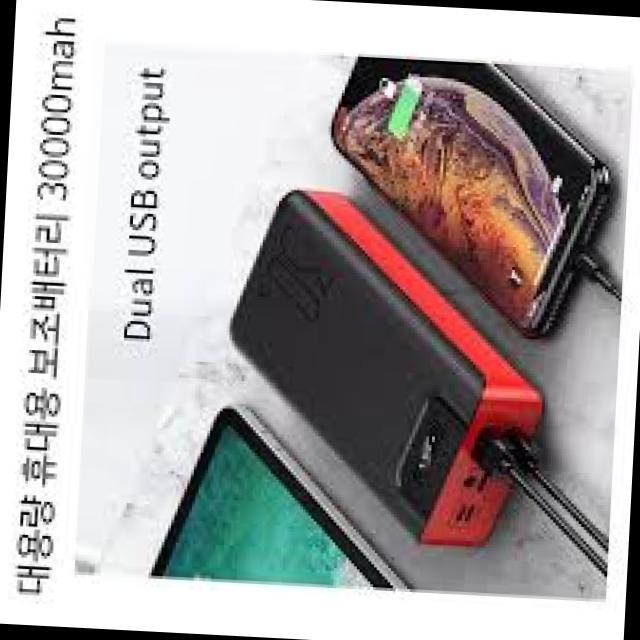power_bank: (214, 180, 556, 558)
